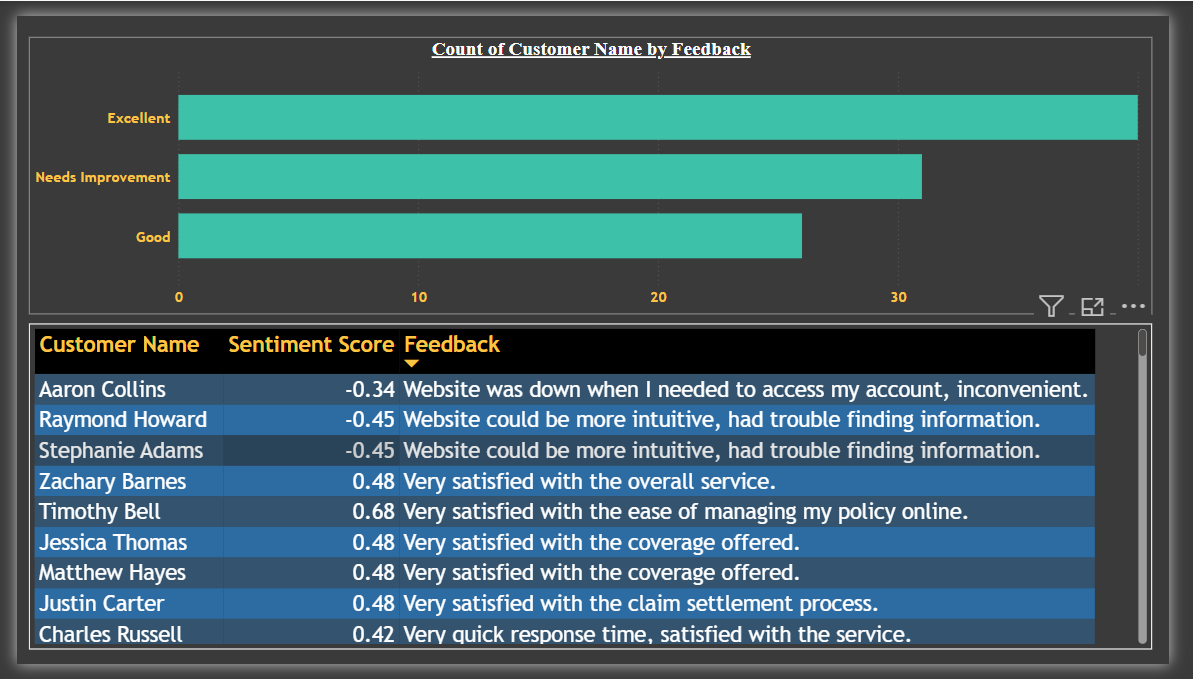

The dashboard page shown, as its layout file describes it:
{"tool":"powerbi","page":{"name":"Feedback Report","canvas":[1280,720],"ordinal":2},"visuals":[{"type":"barChart","title":"Count of Customer Name by Feedback","fields":{"Category":["dataset.Good/Improvement"],"Y":["CountNonNull(dataset.Customer Name)"]},"box":[14,24,1248,308],"z":0},{"type":"tableEx","fields":{"Values":["dataset.Customer Name","Sum(dataset.Sentiment Score)","dataset.Feedback"]},"box":[14,342,1248,362],"z":1000}]}

Visuals, with their boxes in screenshot pixels (x1, y1, x2, y2), scaled from the page's 1280x720 canvas onto the 1193x679 screenshot:
"Count of Customer Name by Feedback" barChart: crop(13, 23, 1176, 313)
tableEx - dataset.Customer Name x Sum(dataset.Sentiment Score): crop(13, 323, 1176, 664)
